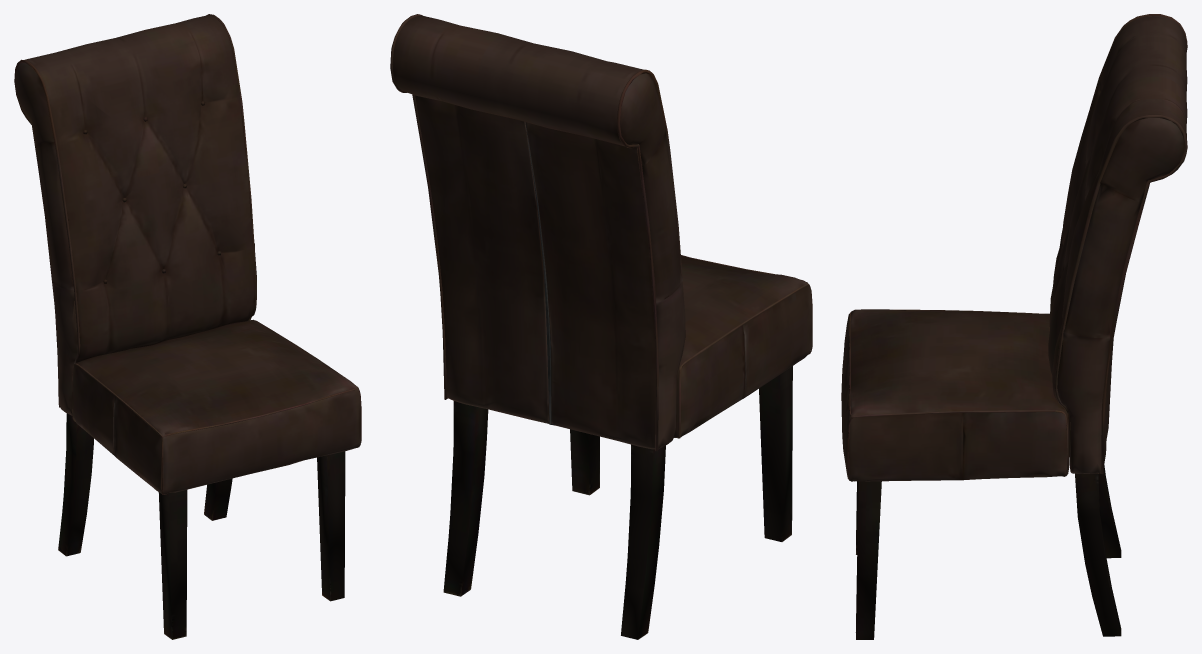
The model's file is dining-chair-balanced-3141fe52a1.glb.
3 views of the same model, side by side, from view 1: azimuth 30°, elevation 25°; view 2: azimuth 150°, elevation 25°; view 3: azimuth 270°, elevation 25° (orthographic). The views are drawn at different scales.
Visible parts, largest first — view 1: dining_chair_02; view 2: dining_chair_02; view 3: dining_chair_02.
Boxes of the visible parts, box(x1,y1,x2,y2) form: dining_chair_02: box(14, 14, 361, 639); dining_chair_02: box(390, 14, 812, 639); dining_chair_02: box(841, 14, 1187, 639).
Size of the model in its own units: 0.4333 by 0.9731 by 0.5768.
Materials: 1 (1 with a texture image).
